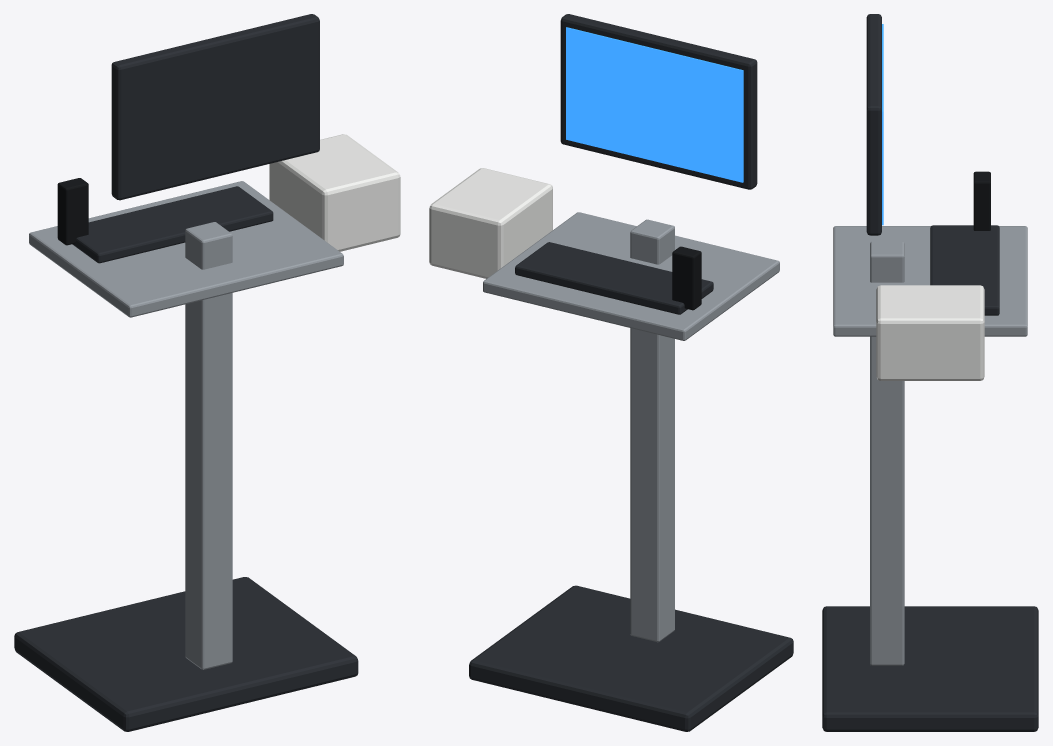
File: pc_station.glb
The picture shows the model from 3 angles, left to right: view 1: azimuth 30°, elevation 25°; view 2: azimuth 150°, elevation 25°; view 3: azimuth 270°, elevation 25°; orthographic projection. The views are drawn at different scales.
Visible parts, largest first — view 1: pc_station; view 2: pc_station; view 3: pc_station.
Part boxes in pixels (x1=…): pc_station: x1=14, y1=14, x2=400, y2=731; pc_station: x1=429, y1=14, x2=793, y2=731; pc_station: x1=822, y1=14, x2=1038, y2=731.
Bounding box in the file's own units: 0.78 × 1.58 × 0.5.
